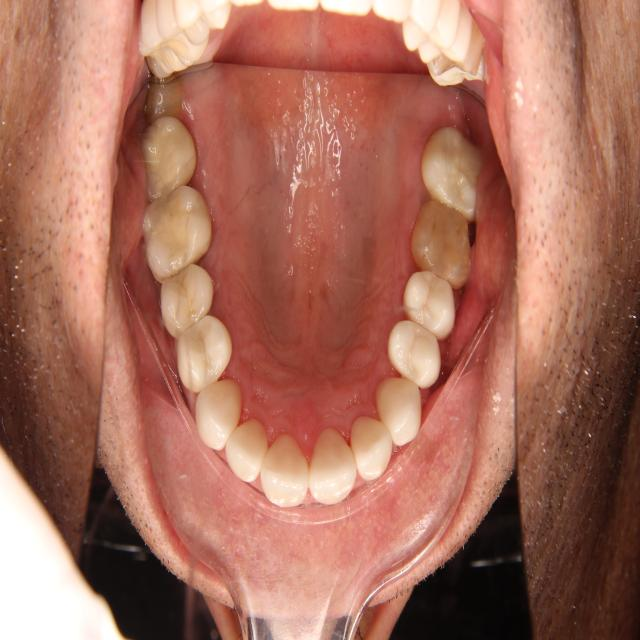tooth: (141, 178, 226, 292), (407, 186, 481, 296), (416, 118, 488, 229), (168, 302, 242, 401), (135, 112, 207, 207), (149, 256, 228, 341), (259, 413, 314, 518), (398, 262, 463, 346), (303, 420, 361, 511), (187, 373, 251, 455), (219, 401, 275, 493), (383, 314, 448, 391), (345, 403, 404, 486), (371, 370, 427, 447), (143, 77, 186, 126)
